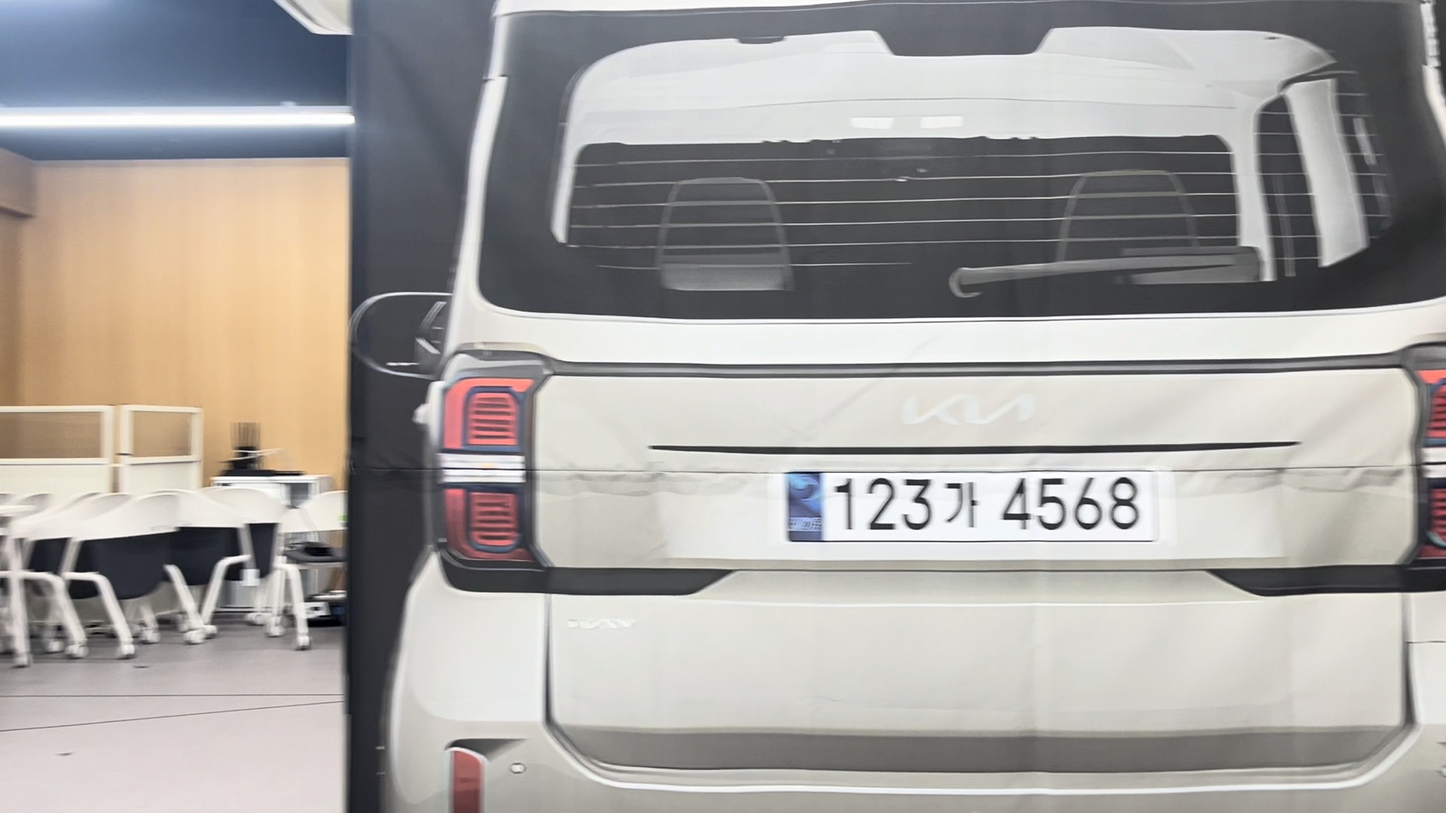car_emblem: (903, 393, 1035, 425)
license_plate: (788, 472, 1157, 541)
side_mirror: (349, 292, 450, 379)
tail_light: (435, 356, 546, 565), (1408, 346, 1445, 565), (448, 747, 486, 812)
